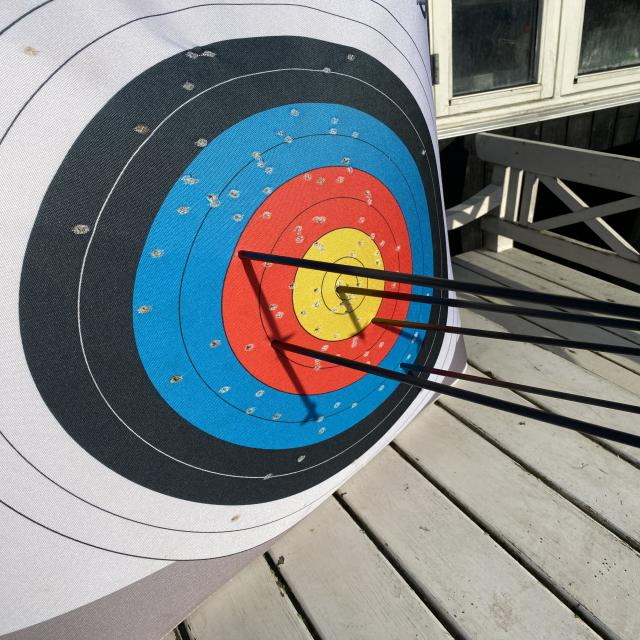Arrow_Blue: (392, 352, 424, 384)
Arrow_Red: (219, 230, 285, 283), (251, 324, 314, 373), (364, 308, 399, 343)
Arrow_Yellow: (324, 273, 364, 307)
